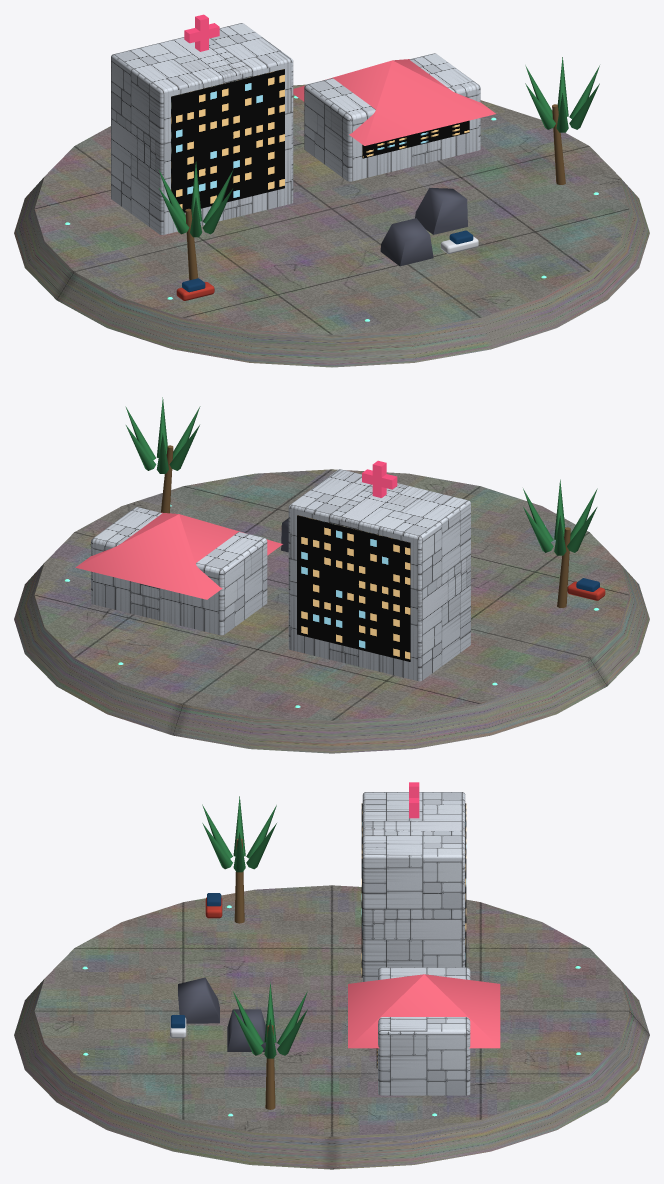
Rendered from welfare-T2.glb.
3 views of the same model, one above another, from view 1: azimuth 30°, elevation 25°; view 2: azimuth 150°, elevation 25°; view 3: azimuth 270°, elevation 25° (orthographic).
Visible parts, largest first — view 1: object 1, object 11, object 12, object 16, object 17, grass, object 18, anim:car (×2), object 27, object 20; view 2: object 1, object 11, object 13, object 16, object 17, object 20, anim:car; view 3: object 1, object 11, object 16, object 17, grass.
Boxes of the visible parts, x1,y1,x2,y2 form: object 1: [14, 84, 649, 367]; object 11: [111, 23, 293, 234]; object 12: [171, 69, 284, 212]; object 16: [304, 53, 480, 181]; object 17: [293, 59, 495, 145]; grass: [380, 188, 467, 266]; object 18: [362, 120, 469, 158]; anim:car (×2): [176, 230, 478, 300]; object 27: [552, 104, 565, 184]; object 20: [185, 208, 198, 280]; object 1: [14, 469, 649, 753]; object 11: [288, 469, 470, 681]; object 13: [297, 515, 410, 661]; object 16: [91, 507, 267, 635]; object 17: [75, 512, 282, 599]; object 20: [557, 527, 570, 607]; anim:car: [567, 578, 605, 600]; object 1: [14, 885, 649, 1169]; object 11: [362, 792, 465, 981]; object 16: [378, 967, 470, 1095]; object 17: [348, 974, 500, 1048]; grass: [178, 977, 265, 1051].
Size of the model in its own units: 6.2 by 2.55 by 6.2.
27 materials, 6 textured.
